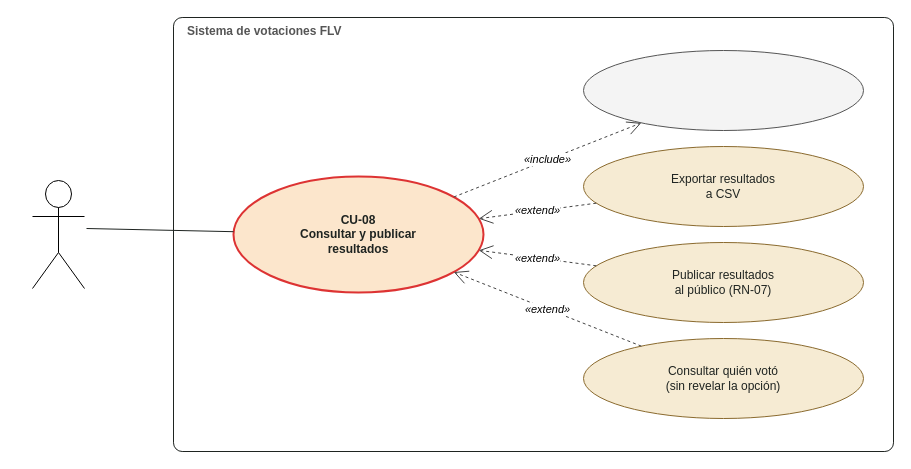
This 911x469 diagram has some shape labels left out. The centre of each missing label's shape, as x and y in pixels:
"Administrador" goes at (x=58, y=234).
"Verificar integridad de los votos" goes at (x=723, y=90).
